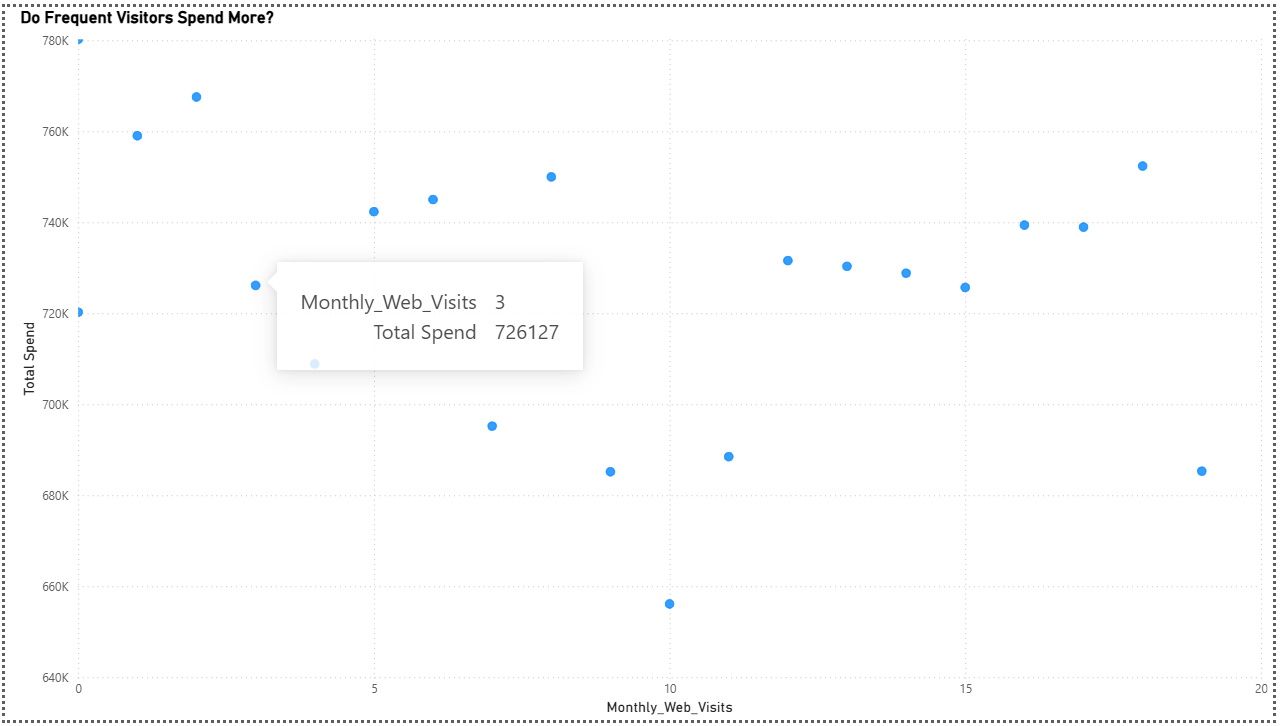

This screenshot's page, from the dashboard's own definition file:
{"tool":"powerbi","page":{"name":"DIGITAL ENGAGEMENT ANALYSIS","canvas":[1280,720],"ordinal":11},"visuals":[{"type":"scatterChart","title":"Do Frequent Visitors Spend More?","fields":{"X":["customer_data.Monthly_Web_Visits"],"Y":["customer_data.Total Spend"]},"box":[10.6,0,1269.7,719.7],"z":0}]}

Visuals, with their boxes in screenshot pixels (x1, y1, x2, y2), scaled from the page's 1280x720 canvas onto the 1280x726 screenshot:
"Do Frequent Visitors Spend More?" scatterChart: crop(11, 0, 1279, 725)
